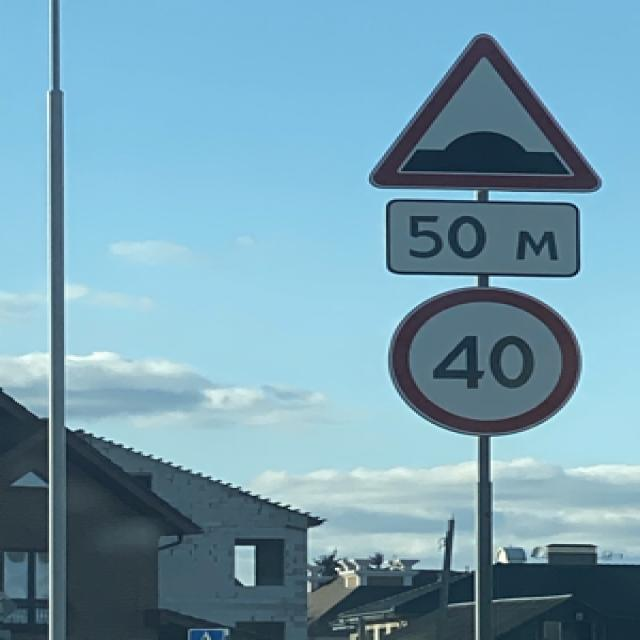crosswalk: (186, 628, 226, 638)
speedlimit: (380, 284, 580, 434)
